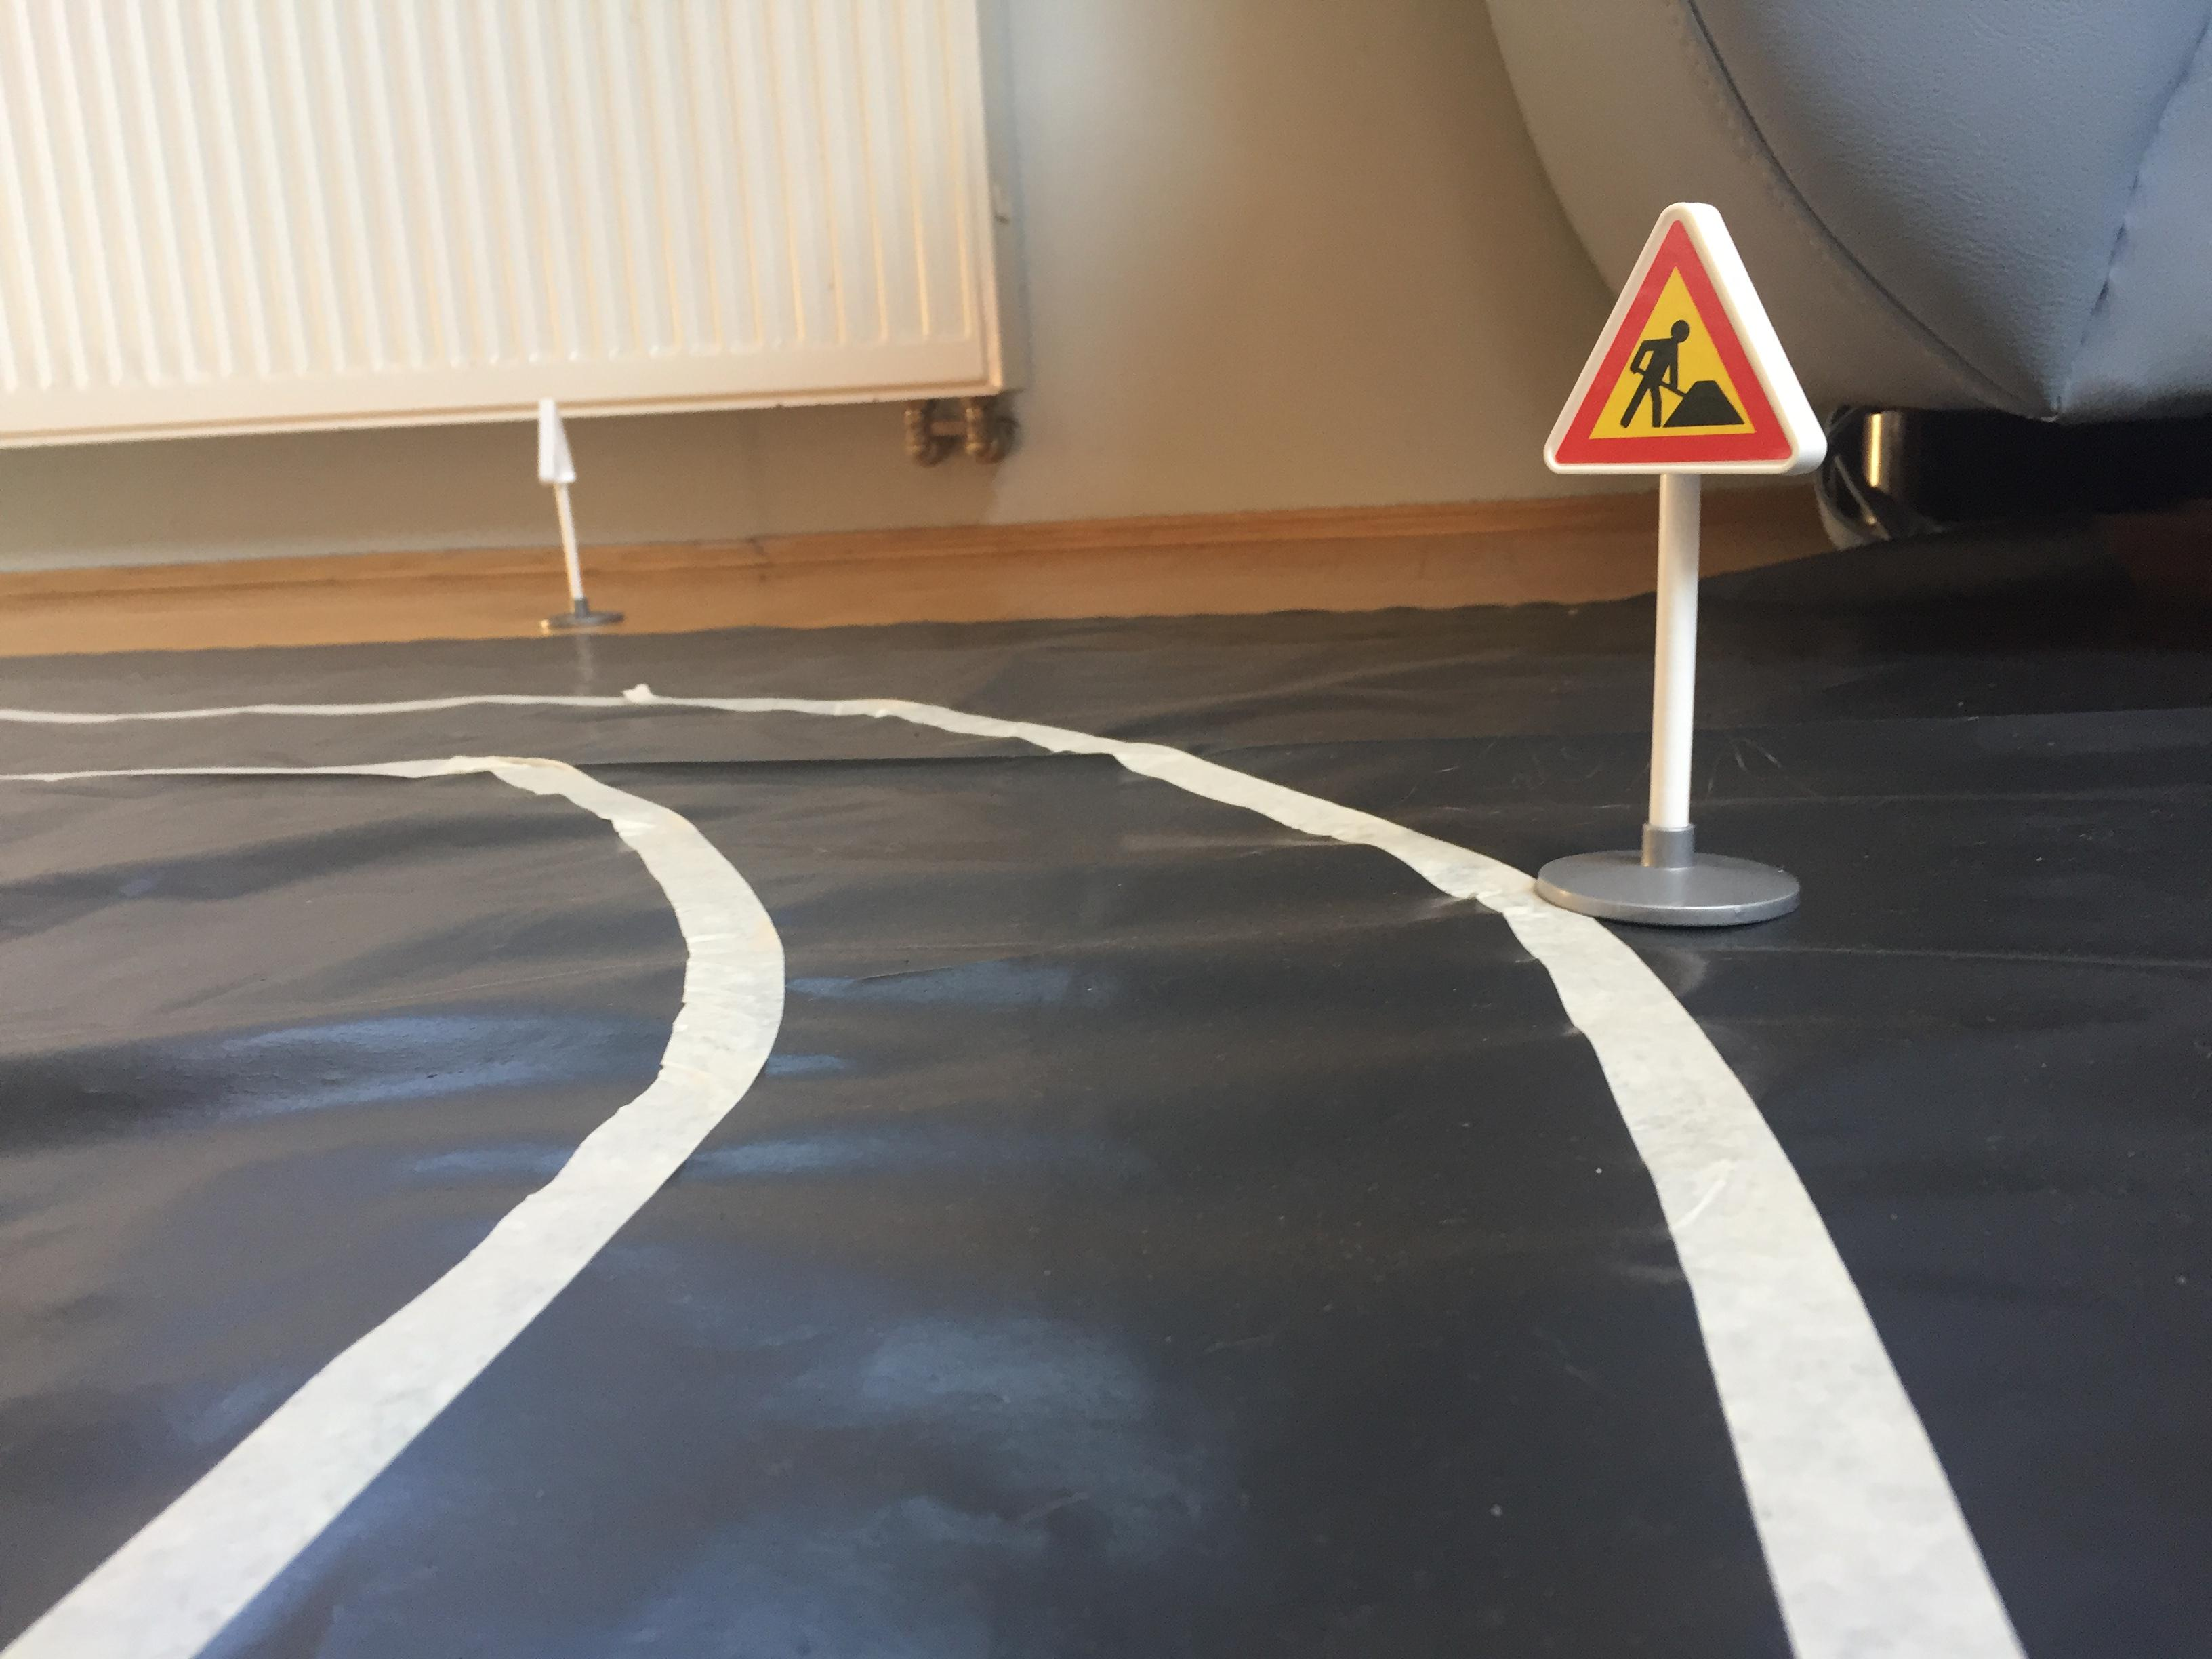work: (1529, 199, 1838, 484)
